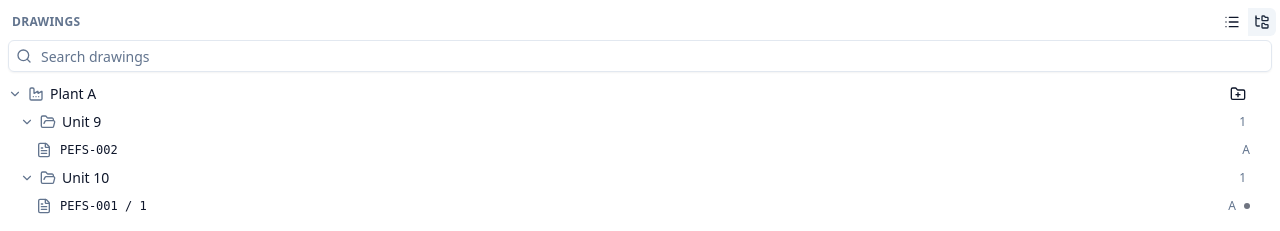
drawing list organised by plant unit (DRW-11) › opens and closes units, and filters by drawing or unit name
Click the button "Unit 10 1": (86, 178) [16,164,1250,192]
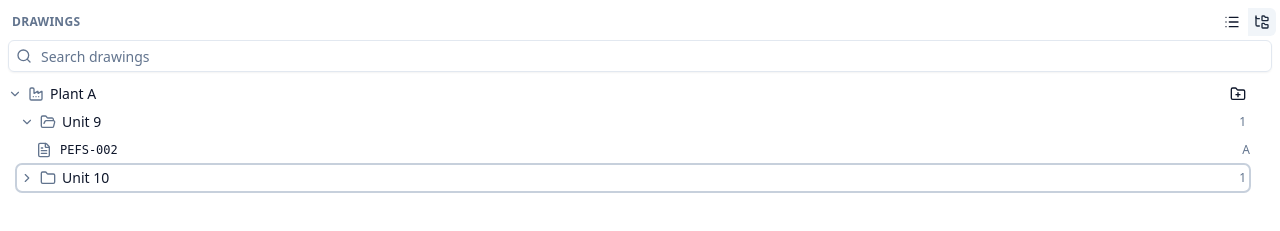
Check: the button "Unit 10 1" is collapsed, box [16,164,1250,192]
# Filtering shows matches even in closed units, and only the units that have them.
In the field labelled "Search drawings": (640, 56) [8,40,1272,72], type "PEFS-001"
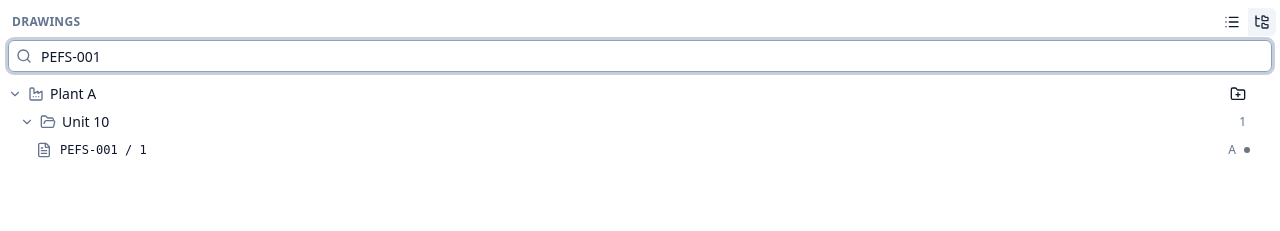
Replace the text in the field named "Search drawings" with "unit 9": (640, 56) [8,40,1272,72]
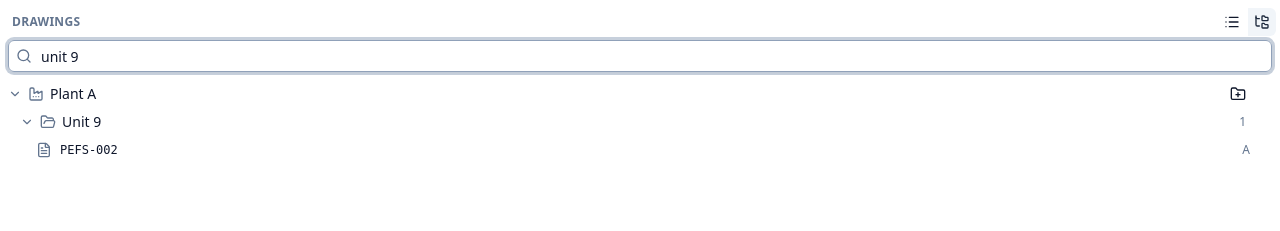
Check: the list item "PEFS-002 A" is shown, box [28,136,1276,164]
Replace the text in the field named "Search drawings" with "nothing like it": (640, 56) [8,40,1272,72]
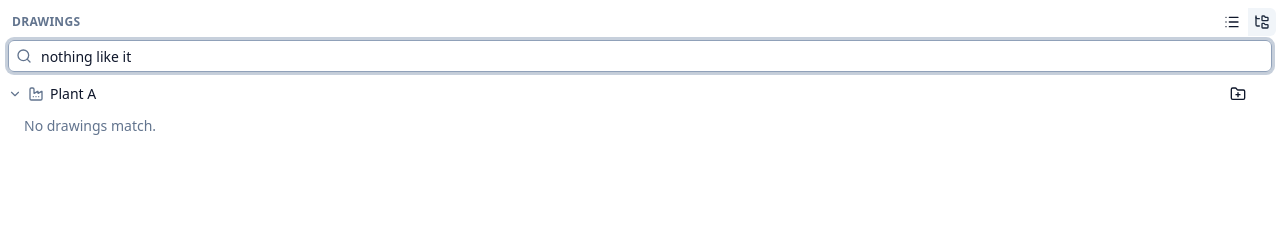
Check: the list with test id "drawing-tree" shows "No drawings match.", box [24,116,156,135]
